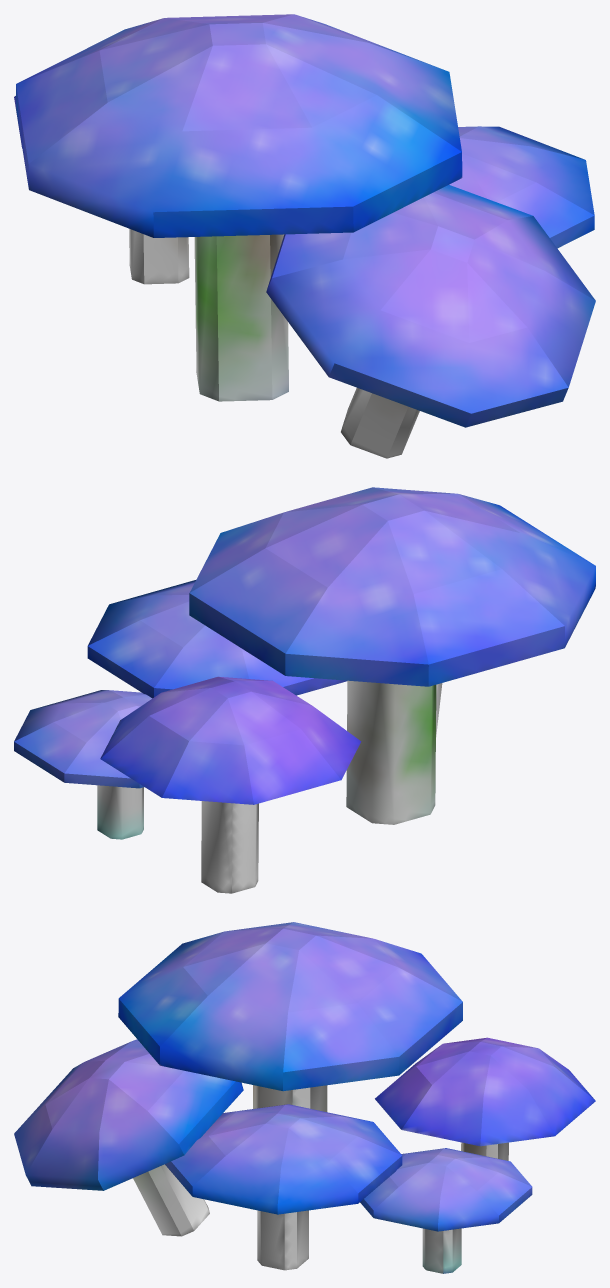
Rendered from champignon_bleu.fbx.
3 renders of one model, top to bottom at view 1: azimuth 30°, elevation 25°; view 2: azimuth 150°, elevation 25°; view 3: azimuth 270°, elevation 25°, orthographic. The views are drawn at different scales.
Visible parts, largest first — view 1: champignon20530; view 2: champignon20530; view 3: champignon20530.
Part boxes in pixels (bbox=[...]): champignon20530: bbox=[14, 14, 595, 458]; champignon20530: bbox=[14, 487, 595, 893]; champignon20530: bbox=[14, 922, 595, 1273].
Bounding box in the file's own units: 1.02 × 0.6726 × 1.32.
